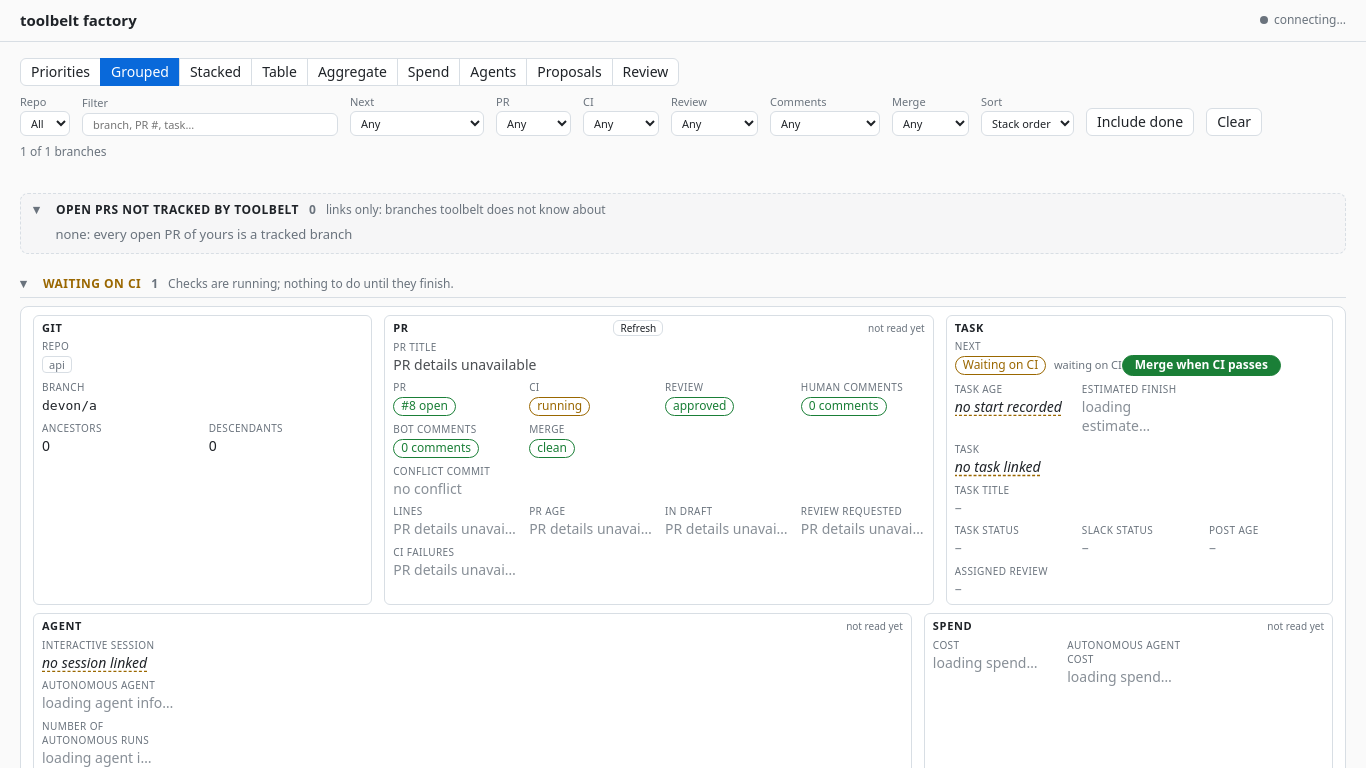
Test case: a card waiting on CI that can be queued to merge › a refusal from the server is shown
Click the button "Merge when CI passes" at (1201, 365), box [1122,355,1281,376]
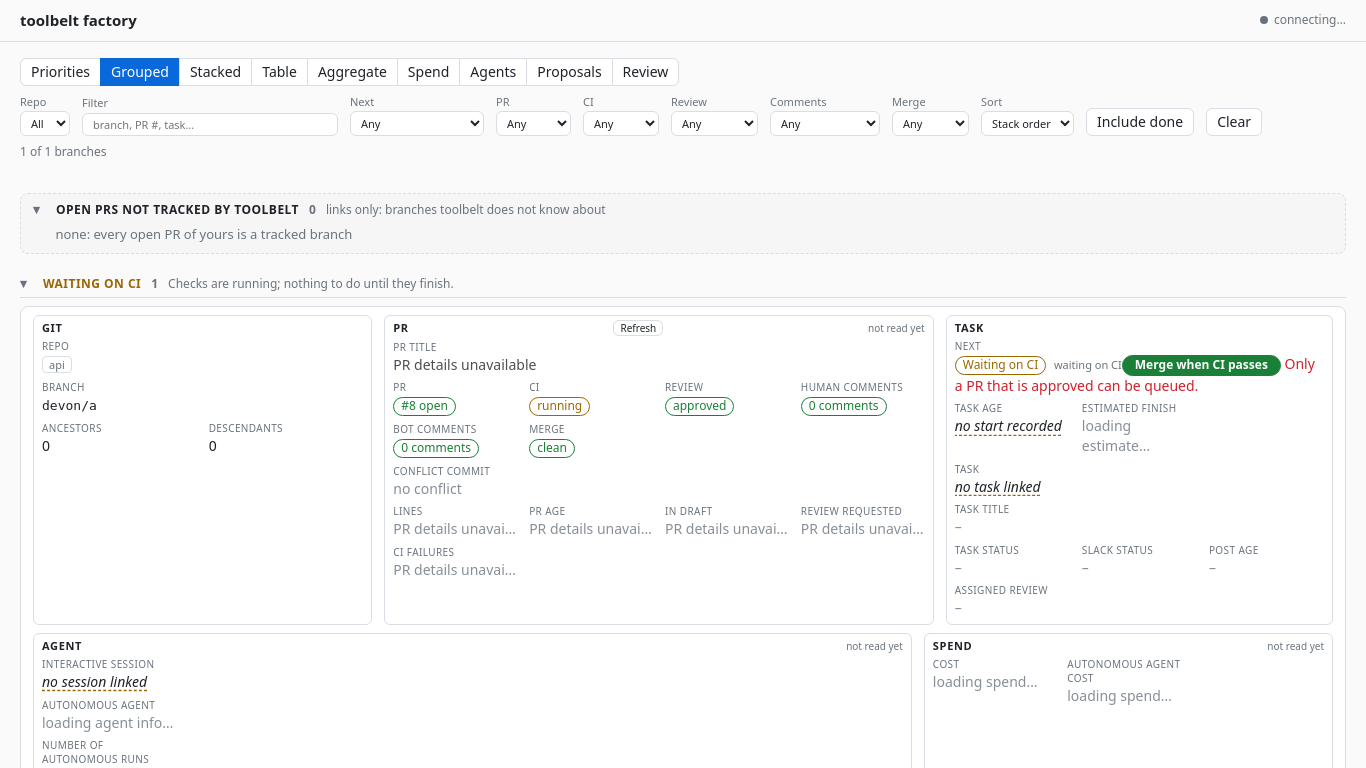
Expected: the message "Only a PR that is approved can be queued." is shown, [955,354,1315,395]
